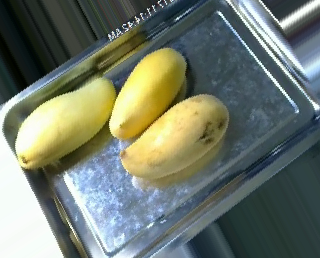Mango: (14, 78, 114, 169), (121, 94, 229, 174), (109, 47, 187, 140)
